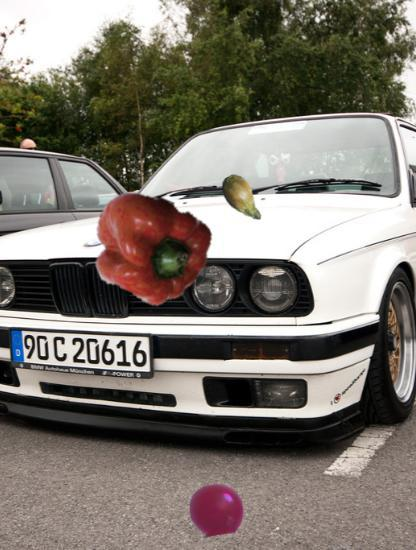Cactus: (215, 173, 269, 227)
Pepper: (89, 188, 210, 309)
Redcurrant: (190, 483, 244, 537)
